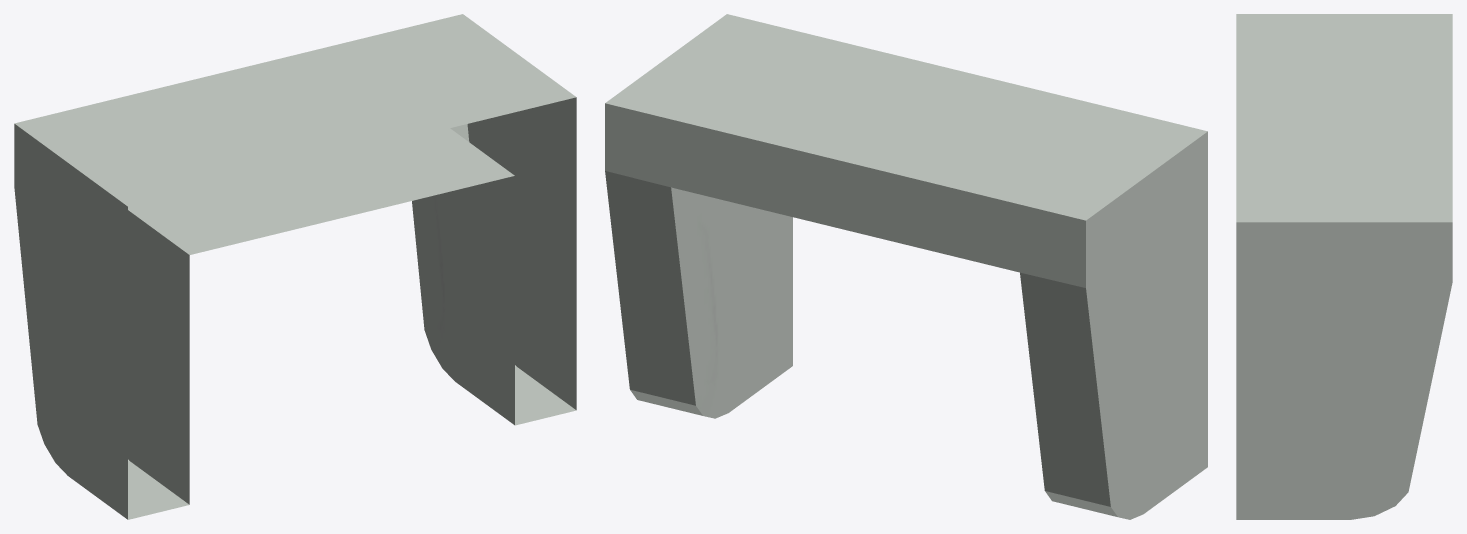
The model's file is Wall_Ornament__3.fbx.
3 renders of one model, left to right at view 1: azimuth 30°, elevation 25°; view 2: azimuth 150°, elevation 25°; view 3: azimuth 270°, elevation 25°, orthographic. The views are drawn at different scales.
Parts seen in each view (by area): view 1: Wall_Ornament; view 2: Wall_Ornament; view 3: Wall_Ornament.
Boxes of the visible parts, x1=… form: Wall_Ornament: x1=14, y1=14, x2=576, y2=519; Wall_Ornament: x1=605, y1=14, x2=1207, y2=519; Wall_Ornament: x1=1236, y1=14, x2=1452, y2=519.
Size of the model in its own units: 1.04 by 0.6969 by 0.4589.
1 material, 1 textured.
